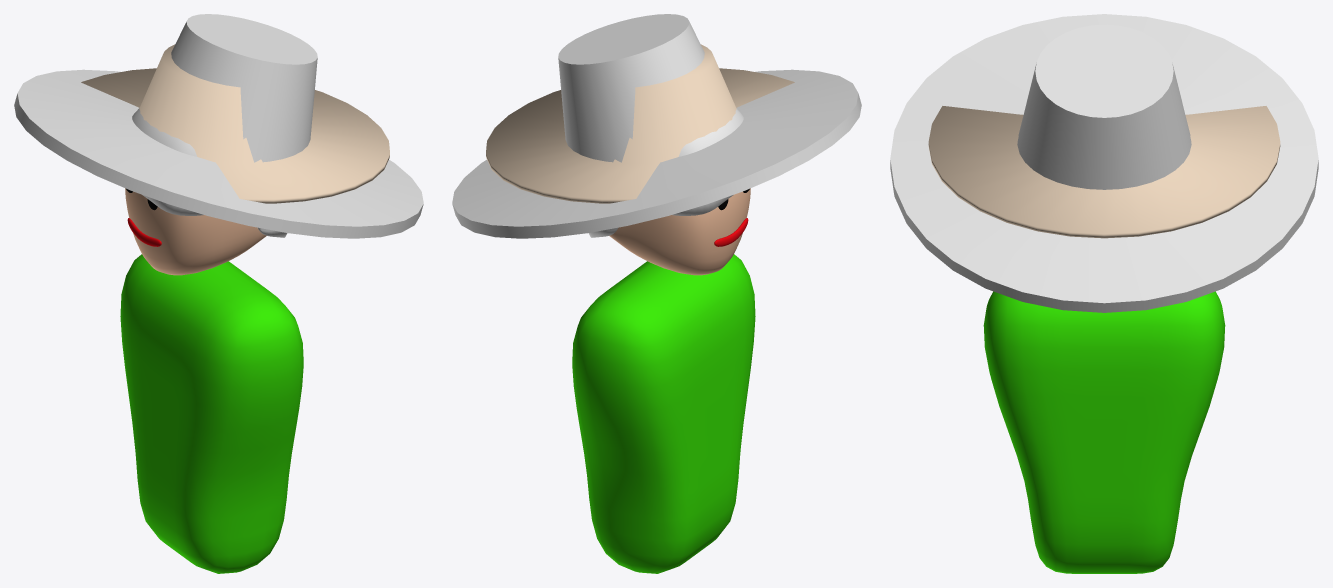
Rendered from body.fbx.
The picture shows the model from 3 angles, left to right: view 1: azimuth 30°, elevation 25°; view 2: azimuth 150°, elevation 25°; view 3: azimuth 270°, elevation 25°; orthographic projection.
Visible parts, largest first — view 1: Cube.004, Cylinder, Cube, Cube.003; view 2: Cube.004, Cylinder, Cube, Cube.003; view 3: Cylinder, Cube.004, Cube.
Part boxes in pixels (x1,y1,x2,y2): Cube.004: (120,254,303,573); Cylinder: (14,14,423,238); Cube: (81,44,389,275); Cube.003: (132,108,287,237); Cube.004: (572,254,755,573); Cylinder: (452,14,861,238); Cube: (486,44,794,275); Cube.003: (588,108,743,237); Cylinder: (890,14,1318,312); Cube.004: (983,291,1225,573); Cube: (928,106,1280,238).
Size of the model in its own units: 249 by 356 by 259.
